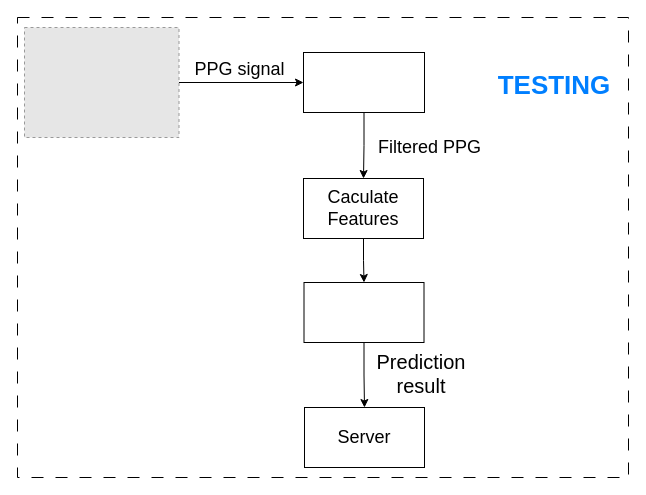
The diagram is 646 pixels wide and 495 high, and some of its shapes have lost their labels. Grey dashed boxes stand in for pictures. Here are the shapes that lost their labels. From the top down, the centre of each, then its label:
At (x=363, y=82): "Low Pass Filter IIR".
At (x=363, y=312): "Trained Model".
